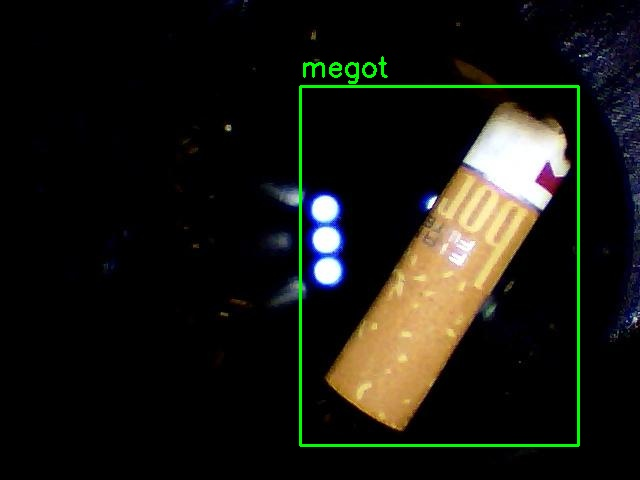megot: (300, 86, 578, 445)
